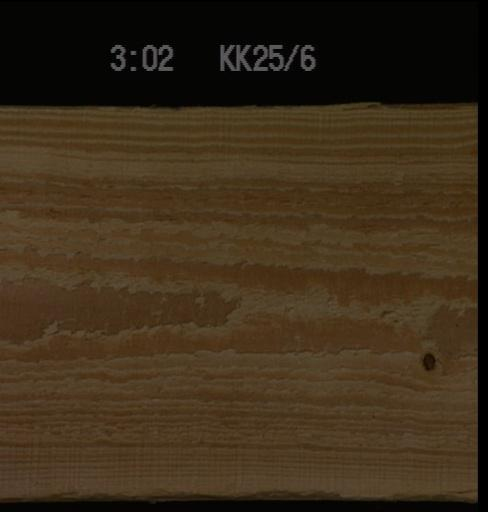dry_knot: (417, 347, 435, 373)
wave: (49, 474, 476, 504)
